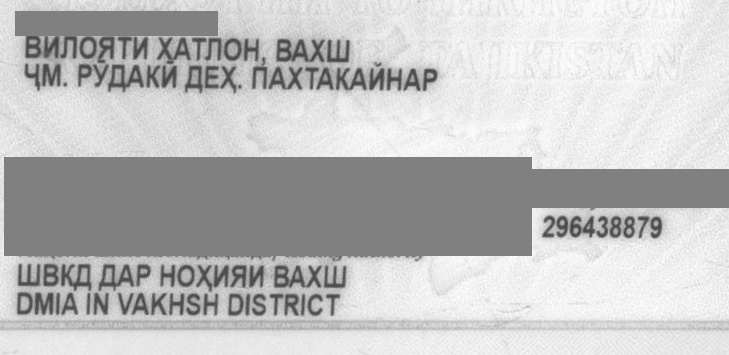2: (540, 212, 560, 240)
3: (595, 212, 611, 240)
4: (580, 212, 598, 240)
6: (567, 212, 583, 240)
7: (635, 212, 651, 240)
8: (607, 212, 625, 240), (621, 212, 639, 240)
9: (553, 212, 571, 240), (648, 212, 666, 240)
А: (125, 54, 145, 98), (268, 54, 288, 98), (349, 54, 369, 98), (405, 54, 425, 98), (290, 27, 310, 69), (171, 27, 189, 69), (116, 255, 134, 295), (318, 54, 334, 98), (290, 255, 306, 295)
В: (39, 255, 61, 295), (277, 27, 293, 69), (275, 255, 291, 295)
Д: (75, 255, 99, 295), (108, 54, 128, 98), (184, 54, 204, 98), (101, 255, 117, 295)
Е: (202, 54, 220, 98)
И: (161, 54, 185, 98), (248, 255, 272, 295), (214, 255, 230, 295)
Й: (366, 54, 386, 98)
К: (143, 54, 163, 98), (331, 54, 349, 98), (59, 255, 77, 295)
Л: (207, 27, 223, 69)
М: (42, 54, 70, 98)
Н: (383, 54, 403, 98), (239, 27, 257, 69), (162, 255, 178, 295)
О: (177, 255, 197, 295), (222, 27, 240, 69)
П: (254, 54, 268, 98)
Р: (132, 255, 160, 295), (421, 54, 445, 98), (80, 54, 92, 98)
Т: (192, 27, 210, 69), (305, 54, 321, 98)
У: (90, 54, 108, 98)
Х: (286, 54, 306, 98), (310, 27, 328, 69), (304, 255, 322, 295), (222, 54, 238, 98)
Ч: (25, 54, 49, 98)
Ш: (324, 27, 360, 69), (319, 255, 355, 295), (19, 255, 39, 295)
Я: (228, 255, 248, 295)
в: (23, 27, 43, 69)
и: (39, 27, 59, 69), (134, 27, 146, 69)
л: (60, 27, 80, 69)
о: (77, 27, 97, 69)
т: (117, 27, 135, 69)
я: (96, 27, 116, 69)
Ҳ: (196, 255, 216, 295), (160, 27, 176, 69)
